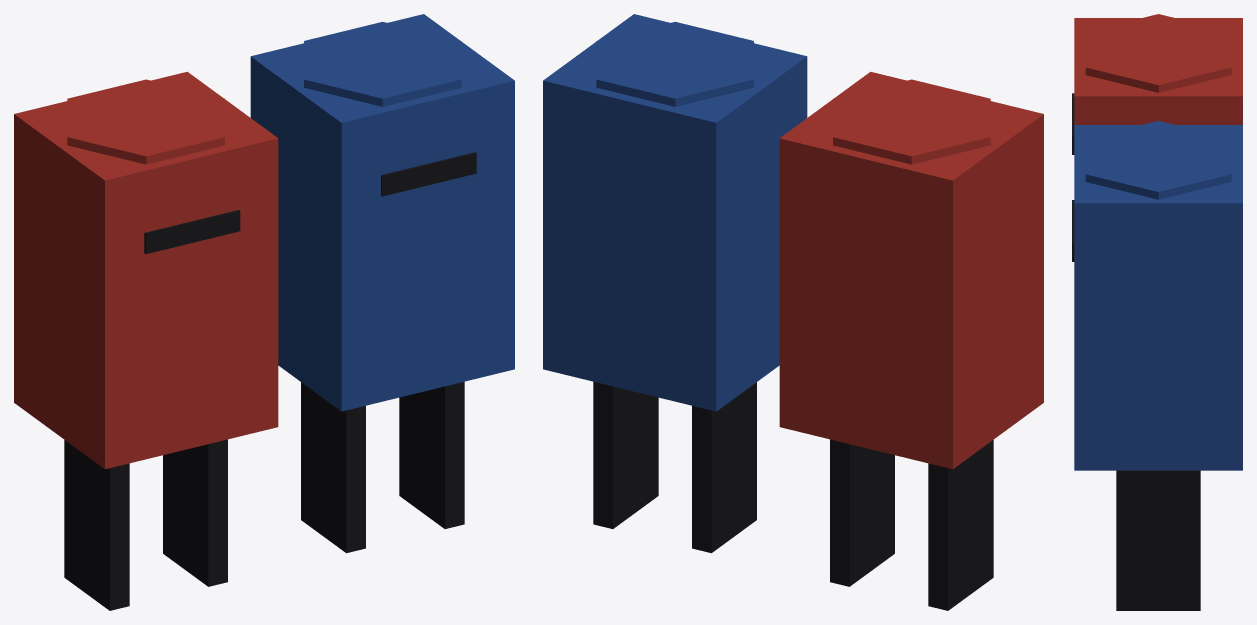
Rendered from tour_boites_lettres.glb.
3 renders of one model, left to right at view 1: azimuth 30°, elevation 25°; view 2: azimuth 150°, elevation 25°; view 3: azimuth 270°, elevation 25°, orthographic. The views are drawn at different scales.
Parts seen in each view (by area): view 1: tour_boites_lettres; view 2: tour_boites_lettres; view 3: tour_boites_lettres.
Boxes of the visible parts, <box> form: tour_boites_lettres: <box>14,14,514,610</box>; tour_boites_lettres: <box>543,14,1043,610</box>; tour_boites_lettres: <box>1072,14,1242,610</box>.
Size of the model in its own units: 1.04 by 1.12 by 0.405.
